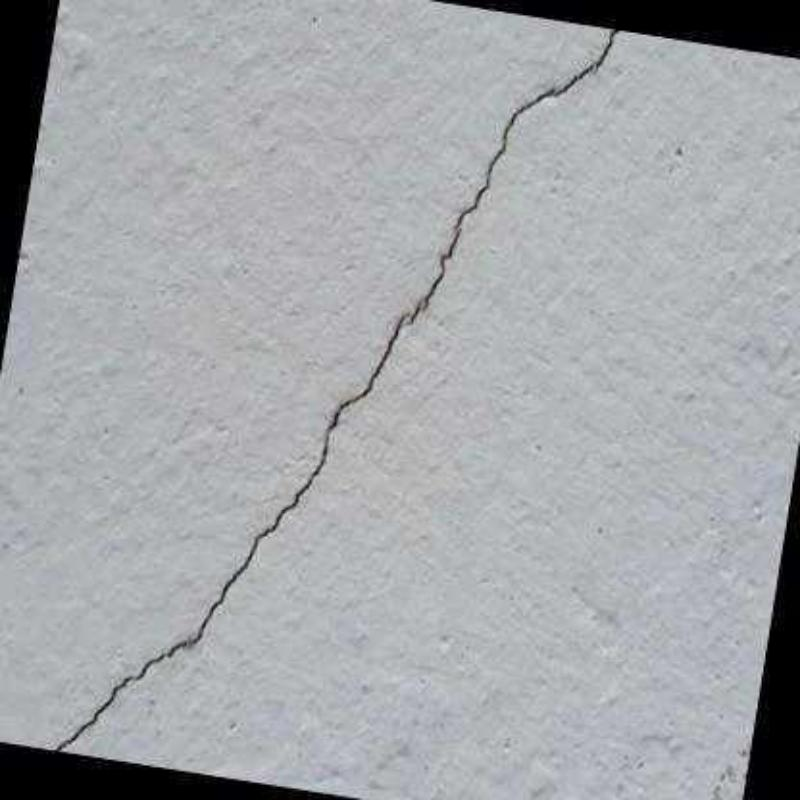pothole: (53, 28, 622, 751)
